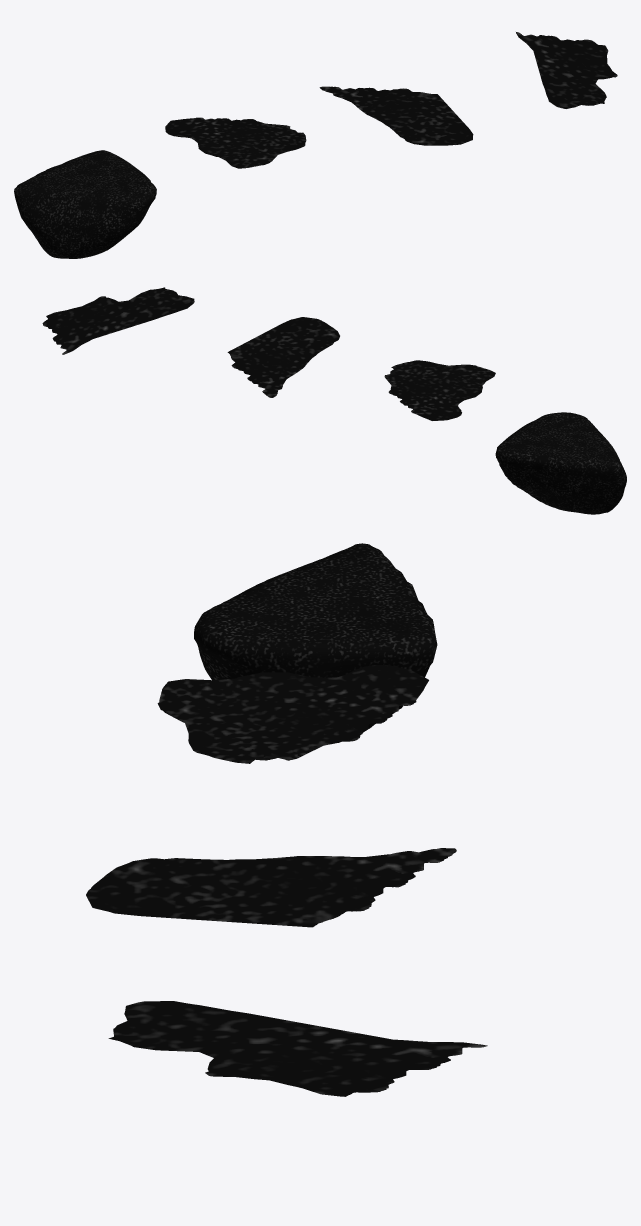
Rendered from Astroid1.fbx.
3 renders of one model, top to bottom at view 1: azimuth 30°, elevation 25°; view 2: azimuth 150°, elevation 25°; view 3: azimuth 270°, elevation 25°, orthographic. The views are drawn at different scales.
Visible parts, largest first — view 1: rock, rock.002, rock.003, rock.001; view 2: rock, rock.002, rock.003, rock.001; view 3: rock, rock.002, rock.003, rock.001.
Boxes of the visible parts, x1,y1,x2,y2 form: rock: (14,150,156,258); rock.002: (319,86,473,145); rock.003: (516,32,617,108); rock.001: (165,117,306,168); rock: (495,412,626,514); rock.002: (227,317,339,397); rock.003: (42,287,194,354); rock.001: (384,360,495,420); rock: (194,543,437,732); rock.002: (86,848,456,927); rock.003: (108,1001,487,1096); rock.001: (157,665,428,763).
Bounding box in the file's own units: 2131 × 351 × 776.
Materials: 1 (1 with a texture image).
